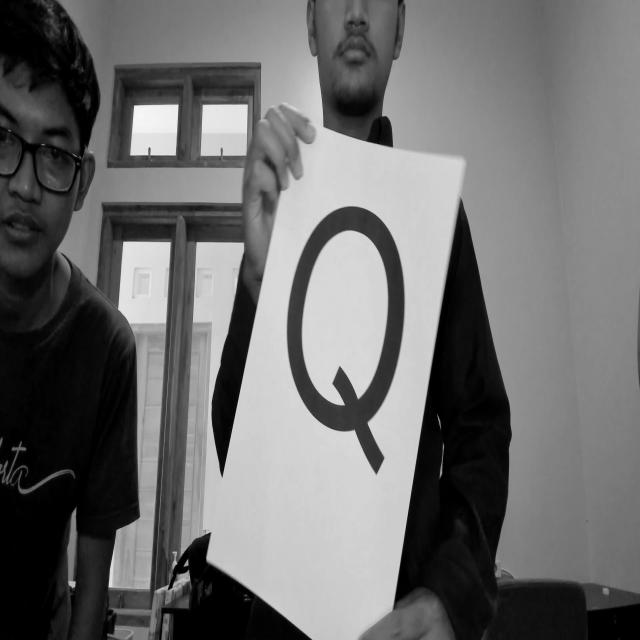q: (272, 196, 424, 494)
